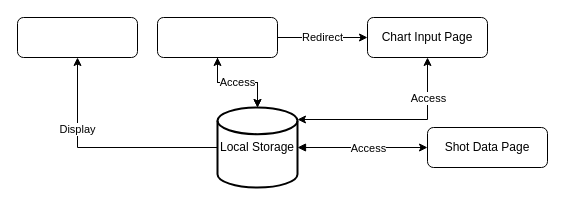
Some shapes in this 565 by 206 pixel diagram are drawn without their labels. The centre of each missing label's shape, as x and y in pixels:
"Dashboard" belongs at point 77,37.
"List Page" belongs at point 217,37.
